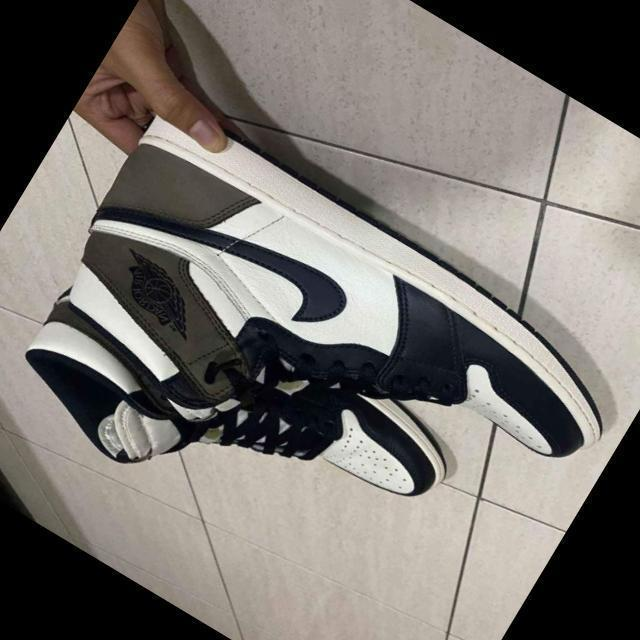nike original jordan 1: (34, 97, 639, 604), (0, 224, 464, 615)
